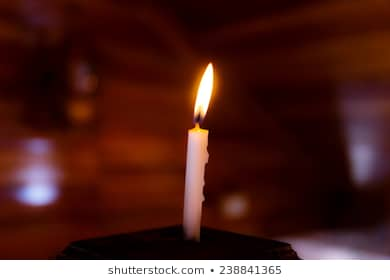Fire: (189, 57, 214, 125)
